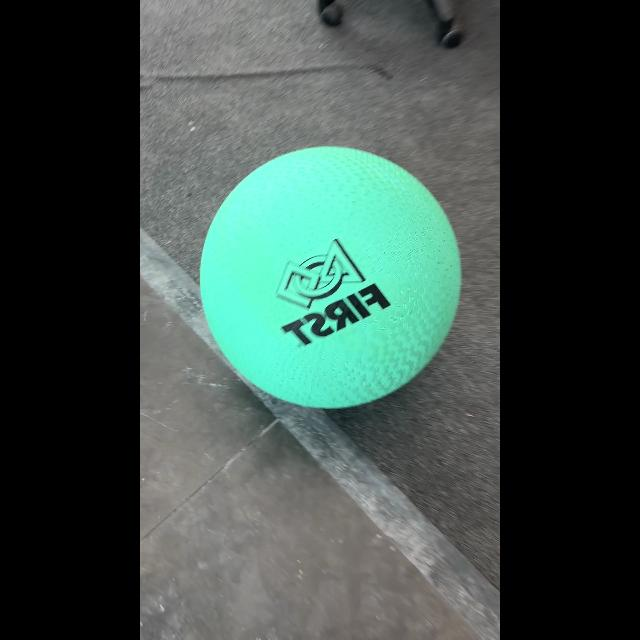ALGAE: (200, 144, 462, 410)
